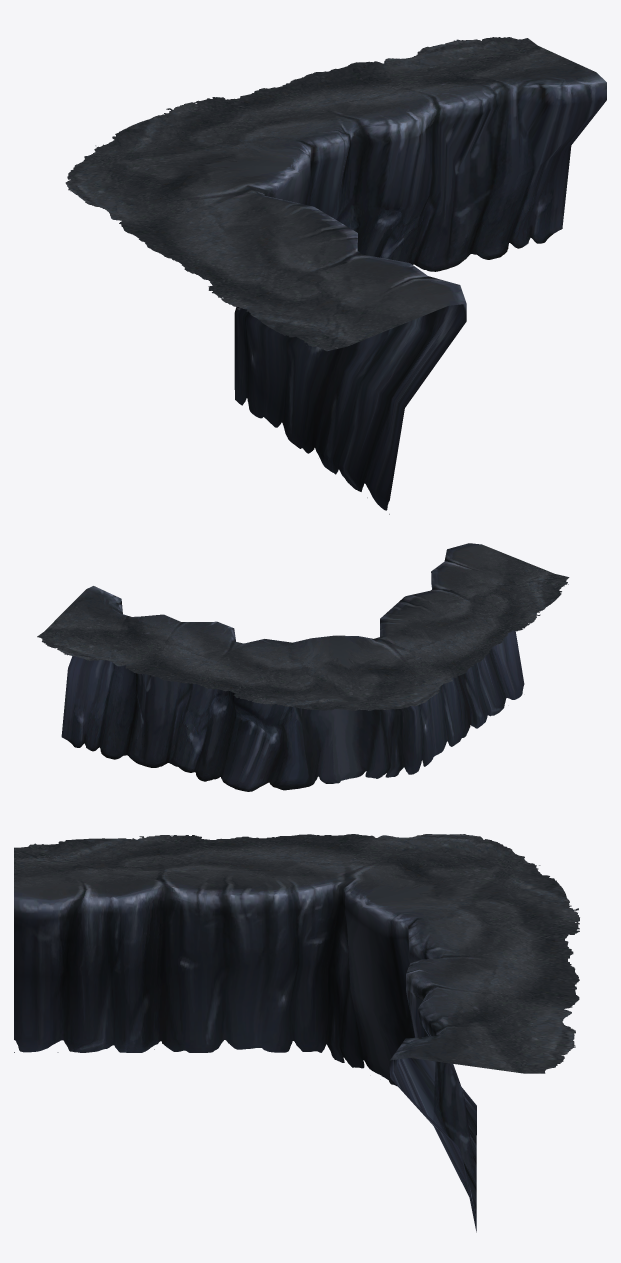
File: mine_trim_concave_01.fbx
The picture shows the model from 3 angles, top to bottom: view 1: azimuth 30°, elevation 25°; view 2: azimuth 150°, elevation 25°; view 3: azimuth 270°, elevation 25°; orthographic projection. The views are drawn at different scales.
Visible parts, largest first — view 1: mine_tileset/mine_trim_02_mat; view 2: mine_tileset/mine_trim_02_mat; view 3: mine_tileset/mine_trim_02_mat.
Part boxes in pixels (bbox=[...]): mine_tileset/mine_trim_02_mat: bbox=[65, 37, 606, 514]; mine_tileset/mine_trim_02_mat: bbox=[37, 543, 569, 791]; mine_tileset/mine_trim_02_mat: bbox=[14, 834, 579, 1232].
Size of the model in its own units: 4.64 by 1.65 by 4.64.
